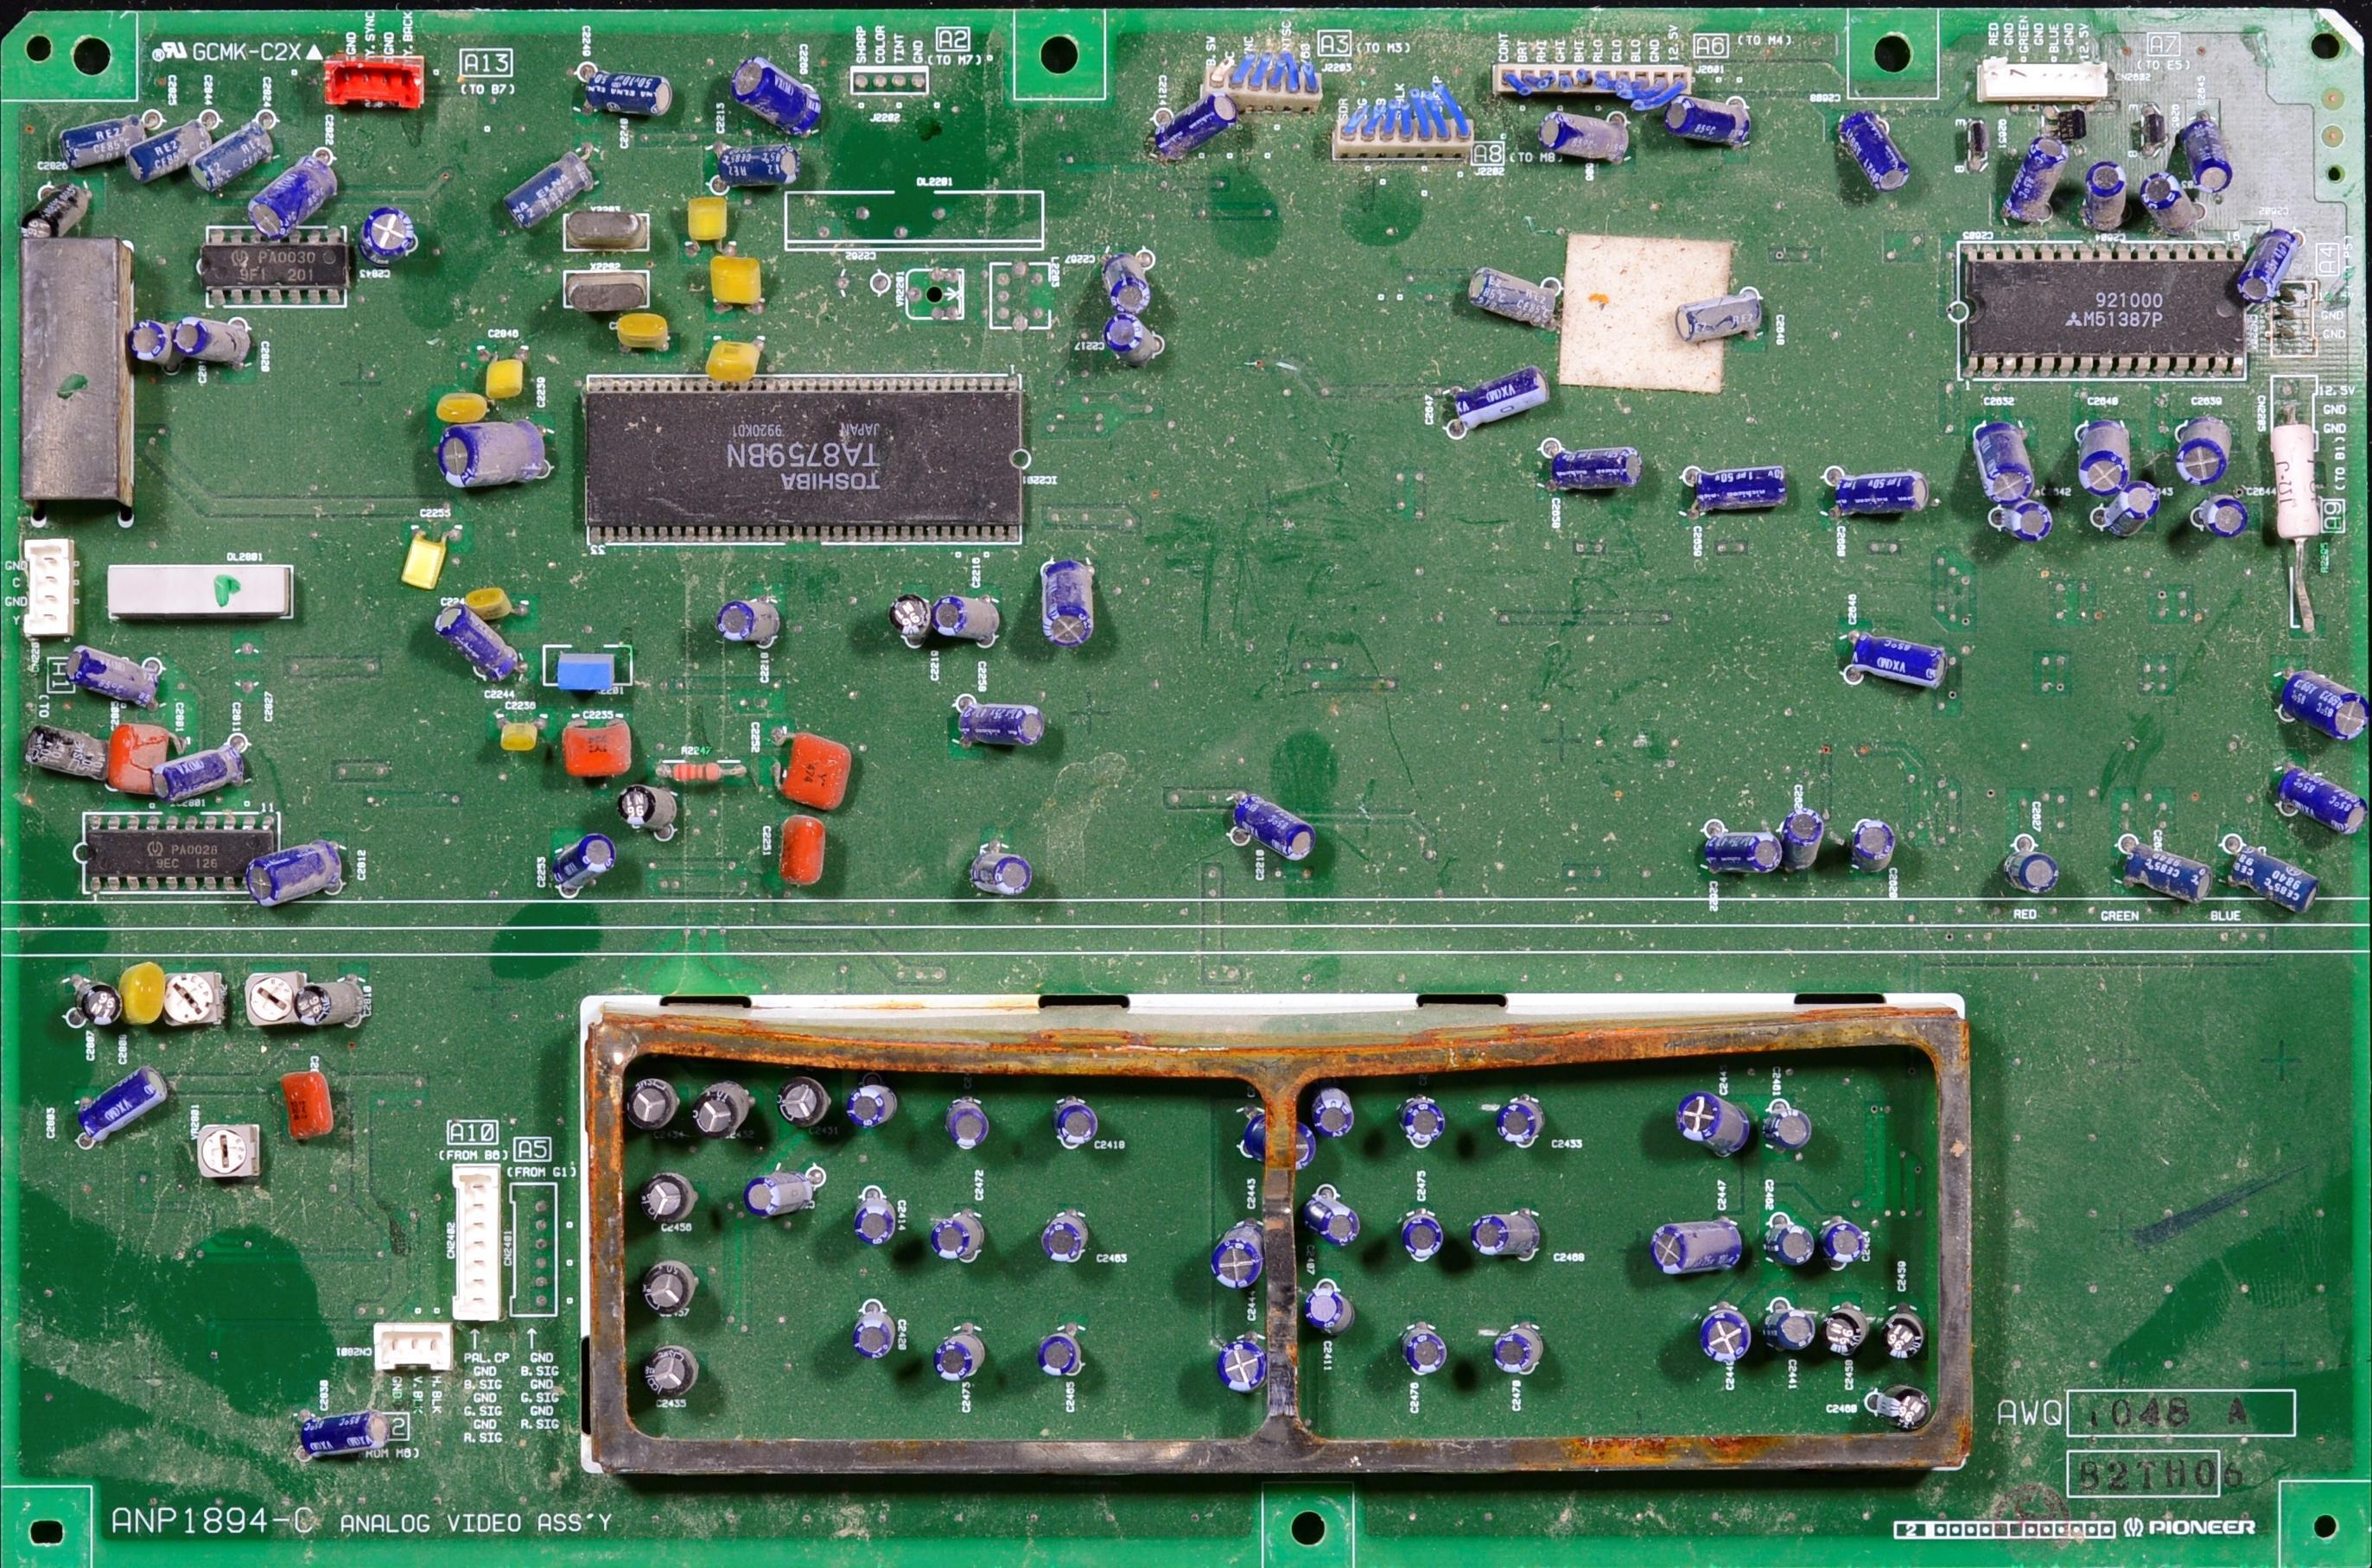Capacitor: (1211, 781, 1324, 871), (1828, 615, 1949, 695), (1466, 258, 1581, 340), (1038, 550, 1109, 661), (1427, 369, 1550, 432), (2122, 837, 2205, 925), (441, 422, 541, 495), (728, 60, 823, 137), (1666, 468, 1799, 524), (2277, 764, 2368, 841), (70, 1067, 172, 1138), (1027, 1324, 1116, 1403), (2070, 416, 2149, 505), (159, 743, 272, 803), (2280, 667, 2366, 743), (1535, 435, 1646, 496), (2226, 841, 2305, 924), (1837, 105, 1909, 194), (2001, 127, 2063, 227), (1820, 461, 1920, 522), (439, 610, 512, 691), (291, 1407, 392, 1464), (1392, 1323, 1466, 1400), (1026, 1100, 1110, 1167), (1150, 97, 1234, 164), (773, 721, 835, 811), (1960, 403, 2026, 491), (255, 841, 348, 904), (513, 155, 589, 227), (1669, 291, 1766, 348), (1650, 1212, 1739, 1274), (101, 721, 170, 801), (1233, 1108, 1317, 1172), (73, 641, 164, 701), (26, 721, 104, 791), (265, 153, 334, 230), (277, 1065, 341, 1141), (559, 714, 636, 777), (572, 69, 671, 117), (1218, 1335, 1288, 1403), (1676, 1082, 1741, 1154), (203, 121, 276, 187), (618, 312, 695, 372), (960, 835, 1028, 903), (1690, 822, 1777, 877), (1757, 1300, 1828, 1366), (2075, 159, 2140, 232), (927, 1330, 1004, 1389), (1090, 244, 1148, 318), (1209, 1222, 1273, 1292), (2238, 222, 2293, 302), (779, 816, 835, 895), (1537, 111, 1626, 161), (1701, 1305, 1766, 1373), (969, 710, 1059, 758), (1104, 326, 1170, 390), (400, 519, 461, 590), (711, 594, 783, 651), (66, 115, 148, 166), (1390, 1091, 1453, 1155), (1839, 807, 1898, 874), (746, 1171, 824, 1223), (1993, 486, 2045, 562), (2085, 473, 2149, 534), (1777, 811, 1838, 876), (137, 117, 205, 175), (2191, 105, 2231, 201), (1302, 1088, 1366, 1150), (1485, 1317, 1545, 1383), (934, 598, 1002, 655), (29, 181, 89, 241), (2006, 841, 2057, 915), (353, 207, 410, 274), (849, 1190, 901, 1260), (1470, 1203, 1530, 1266), (1817, 1216, 1874, 1279), (1873, 1378, 1936, 1436), (703, 333, 777, 383), (1668, 92, 1740, 141), (715, 143, 791, 188), (111, 958, 167, 1019), (623, 1077, 686, 1133), (1758, 1095, 1811, 1158), (2135, 162, 2188, 226), (884, 587, 950, 639), (2196, 481, 2250, 543), (1874, 1300, 1924, 1368), (1307, 1191, 1364, 1250), (640, 1342, 703, 1393), (2184, 425, 2229, 495), (708, 254, 765, 308), (1758, 1216, 1811, 1276), (298, 979, 359, 1030), (773, 1072, 835, 1124), (551, 837, 615, 886), (640, 1257, 696, 1311), (617, 786, 672, 841), (181, 311, 244, 359), (635, 1172, 690, 1226), (75, 982, 124, 1042), (492, 713, 545, 766), (127, 314, 178, 370), (1302, 1281, 1349, 1340), (687, 1084, 753, 1127), (939, 1095, 990, 1148), (846, 1084, 901, 1133), (848, 1312, 900, 1362), (685, 193, 732, 249), (1496, 1093, 1546, 1143), (460, 585, 518, 626), (931, 1214, 983, 1262), (1046, 1212, 1090, 1269), (488, 355, 527, 413), (436, 386, 493, 425), (1824, 1300, 1866, 1350), (1396, 1214, 1433, 1254)
Connector: (451, 1159, 507, 1320), (24, 539, 77, 640), (373, 1321, 449, 1370)
IC: (579, 369, 1024, 541), (1956, 238, 2256, 383), (84, 813, 275, 898), (201, 229, 356, 306)
Resistor: (664, 761, 758, 788)
Transistor: (2141, 104, 2171, 160), (2044, 107, 2085, 148), (1963, 117, 1984, 171)
